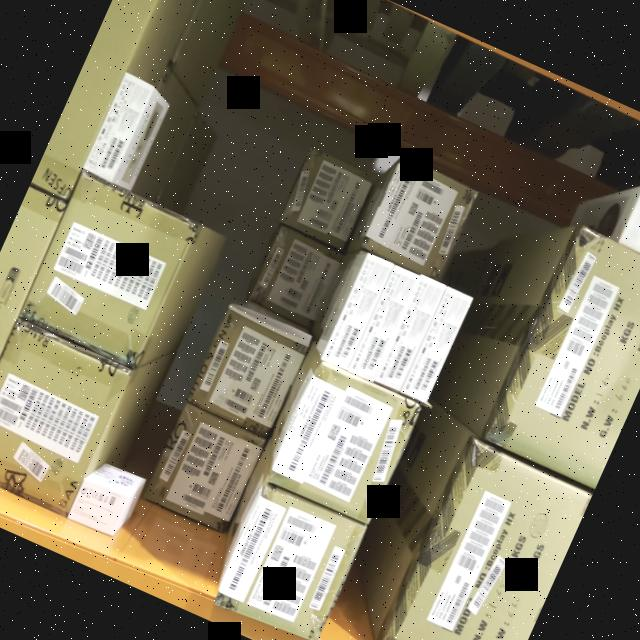box: (18, 177, 194, 367), (0, 321, 129, 513), (268, 368, 420, 526), (214, 489, 364, 640), (189, 308, 308, 434), (148, 406, 264, 532), (374, 276, 447, 392), (321, 258, 392, 374), (81, 75, 155, 184), (348, 268, 417, 381), (402, 288, 471, 401), (70, 481, 128, 537)
